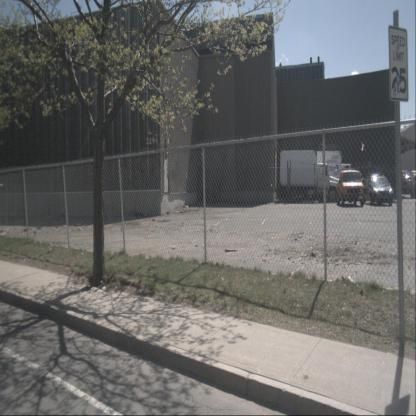vehicle-car: (305, 150, 352, 196), (337, 170, 364, 207), (362, 176, 393, 206), (393, 169, 416, 198)
vehicle-truck: (280, 150, 342, 203)
